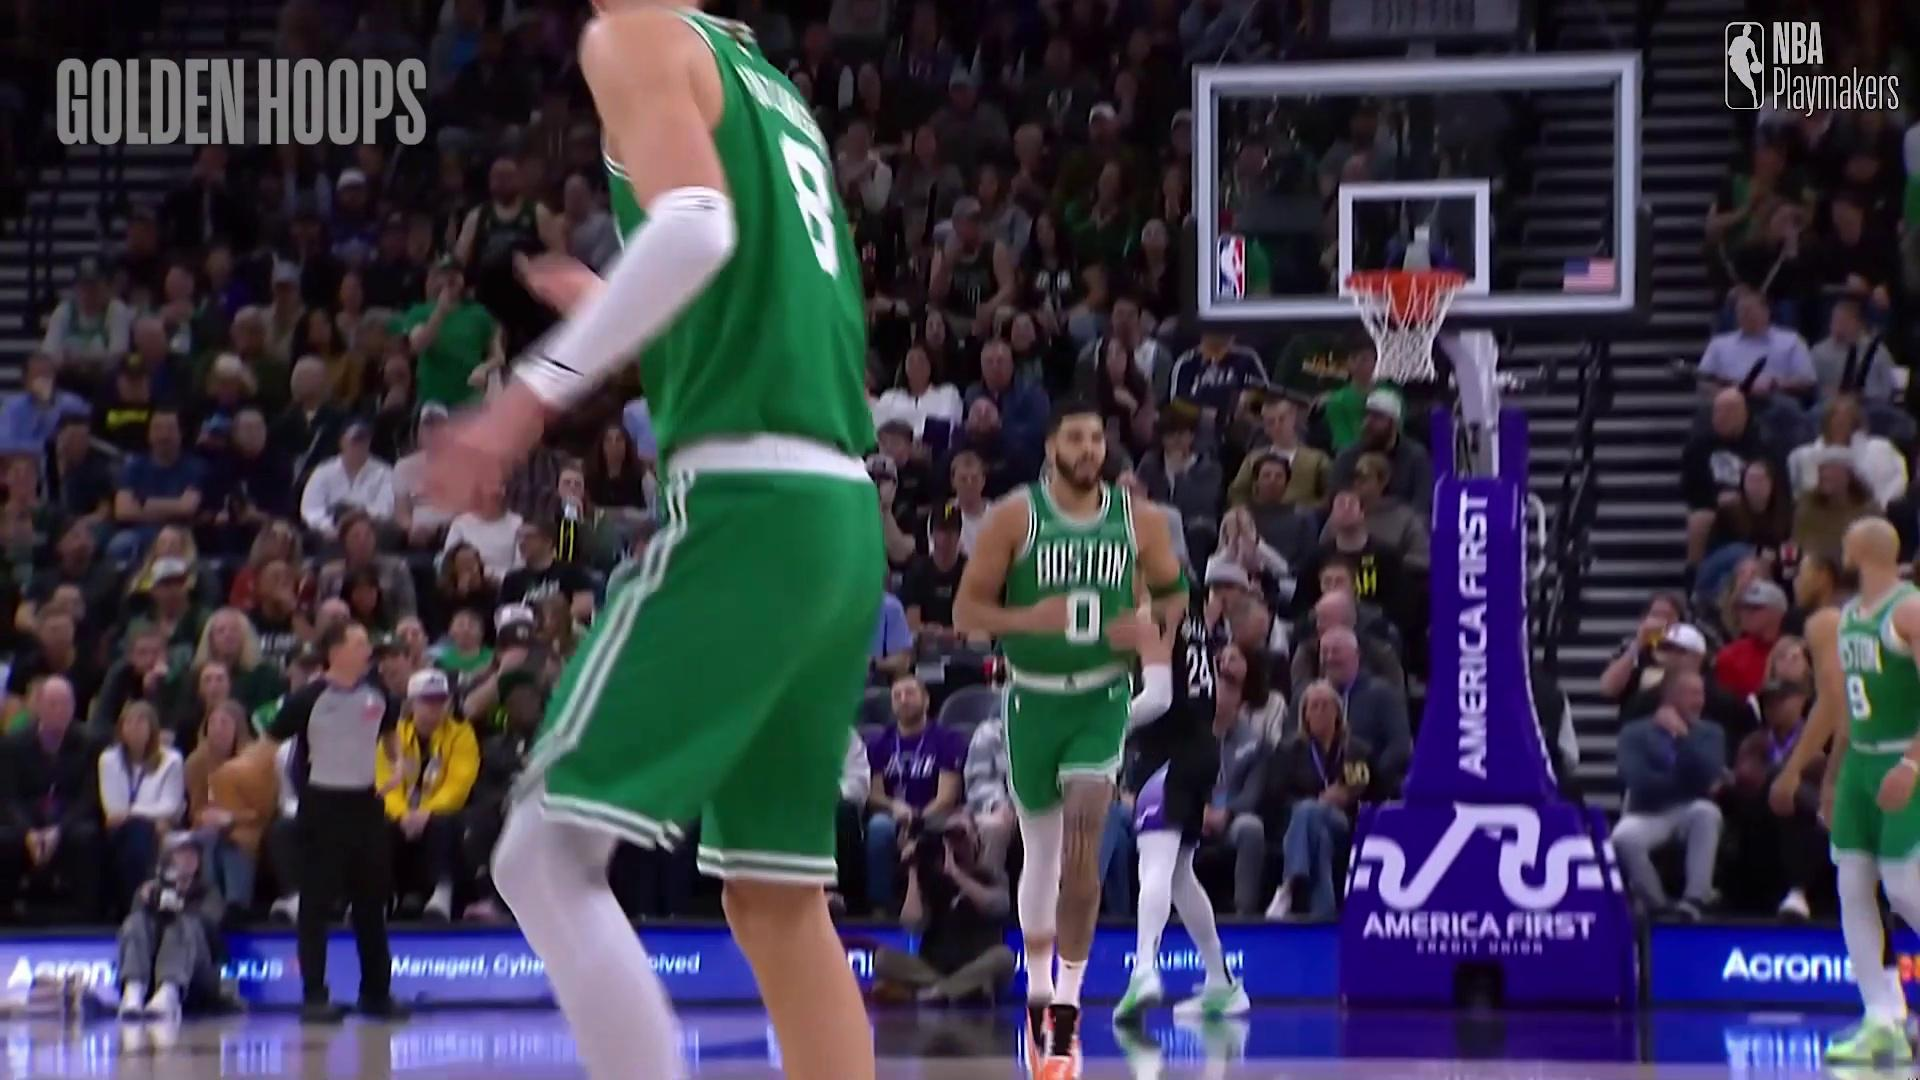hoop: (1354, 265, 1465, 389)
